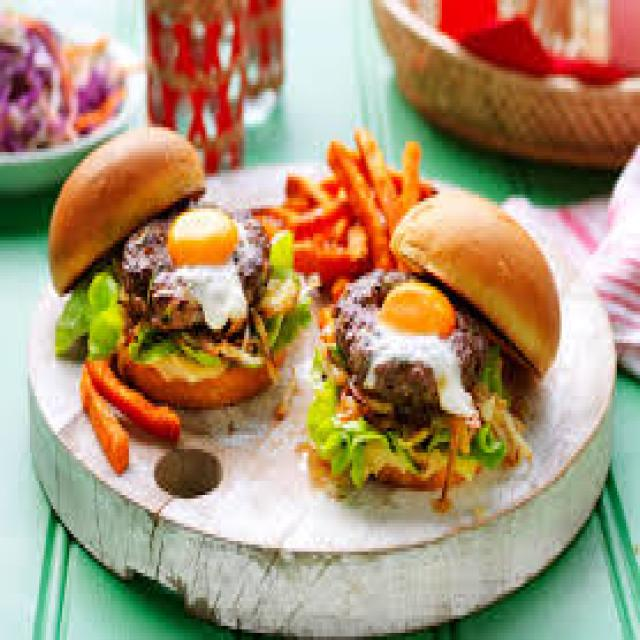Wet Waste: (356, 166, 564, 483), (59, 142, 302, 395)
